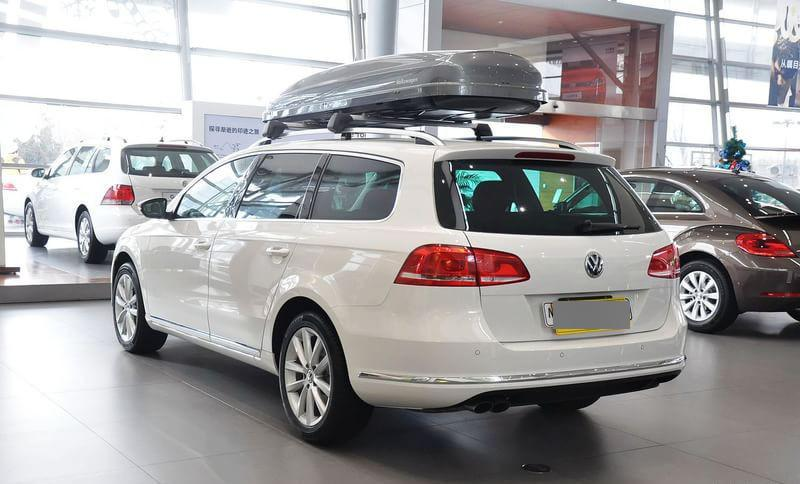Wagon: (110, 49, 689, 446)
